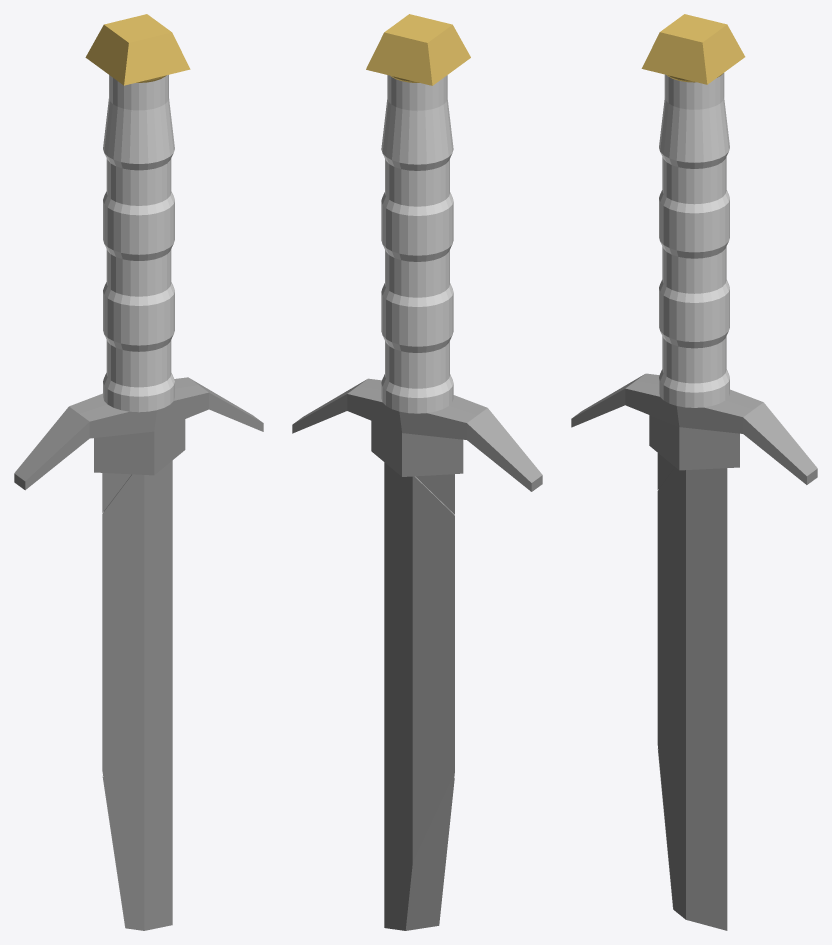
Rendered from BrokenSword.fbx.
3 views of the same model, side by side, from view 1: azimuth 30°, elevation 25°; view 2: azimuth 150°, elevation 25°; view 3: azimuth 330°, elevation 25° (orthographic).
Visible parts, largest first — view 1: Cube.008, Cube.005, Cube.007, Cube.010; view 2: Cube.008, Cube.005, Cube.007, Cube.010; view 3: Cube.008, Cube.005, Cube.007, Cube.010.
Boxes of the visible parts, x1,y1,x2,y2 form: Cube.008: [102, 460, 172, 930]; Cube.005: [103, 75, 174, 412]; Cube.007: [14, 377, 263, 490]; Cube.010: [85, 14, 190, 85]; Cube.008: [384, 462, 454, 930]; Cube.005: [381, 75, 453, 413]; Cube.007: [292, 378, 542, 491]; Cube.010: [366, 14, 470, 85]; Cube.008: [657, 453, 727, 930]; Cube.005: [659, 73, 729, 407]; Cube.007: [571, 373, 817, 484]; Cube.010: [641, 14, 745, 84].
Bounding box in the file's own units: 40.47 × 147 × 11.32.
